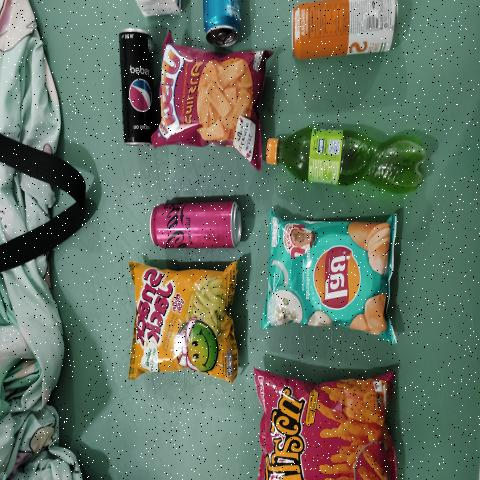coke_red: (150, 205, 238, 250)
fanta_green: (266, 126, 428, 195)
lay_blue: (270, 223, 398, 322)
party_red: (161, 49, 262, 143)
pepsi_black: (122, 33, 154, 149)
singha_yellow: (290, 0, 396, 59)
snack_jack: (137, 273, 229, 367)
twisco: (262, 376, 388, 480)
